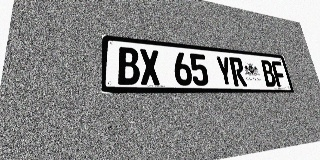5: (189, 53, 210, 86)
6: (172, 52, 193, 86)
B: (117, 46, 140, 85), (260, 60, 277, 87)
F: (271, 61, 288, 87)
R: (229, 57, 247, 86)
X: (139, 48, 161, 85)
Y: (215, 56, 234, 86)
